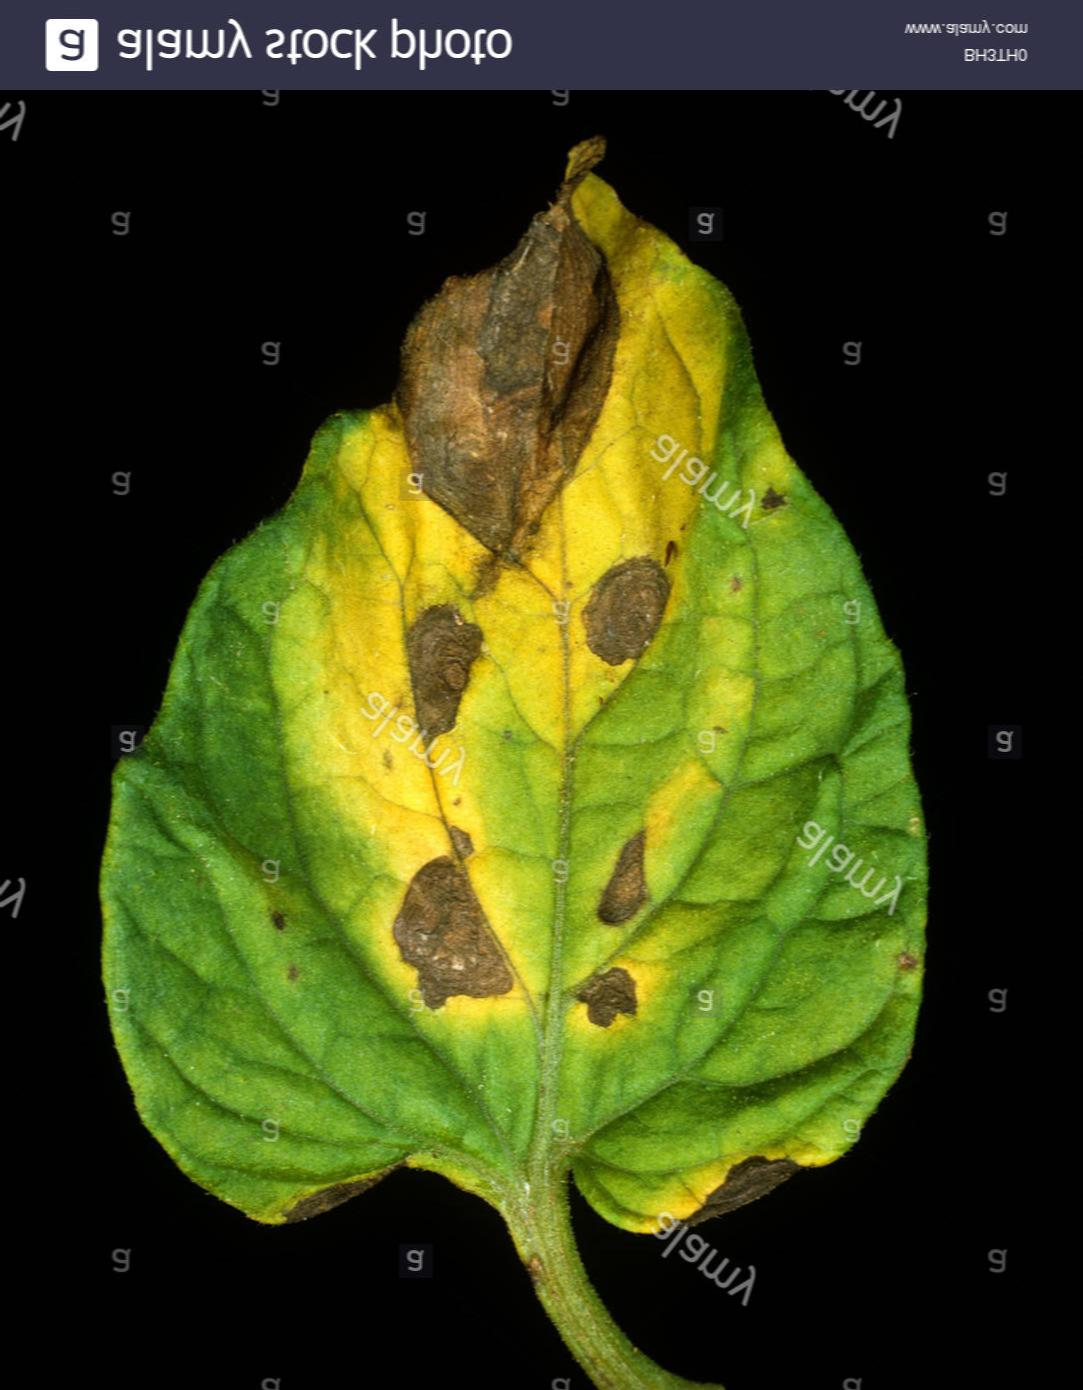Tomato Early blight leaf: (103, 131, 902, 1357)
